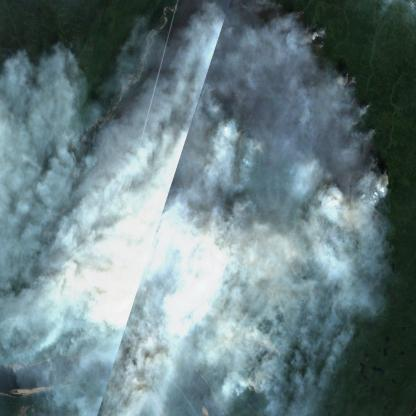fire: (51, 0, 392, 386)
